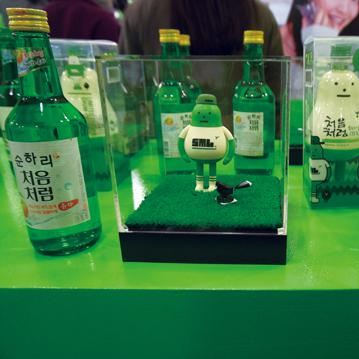soju: (3, 6, 107, 256), (144, 29, 279, 175)
